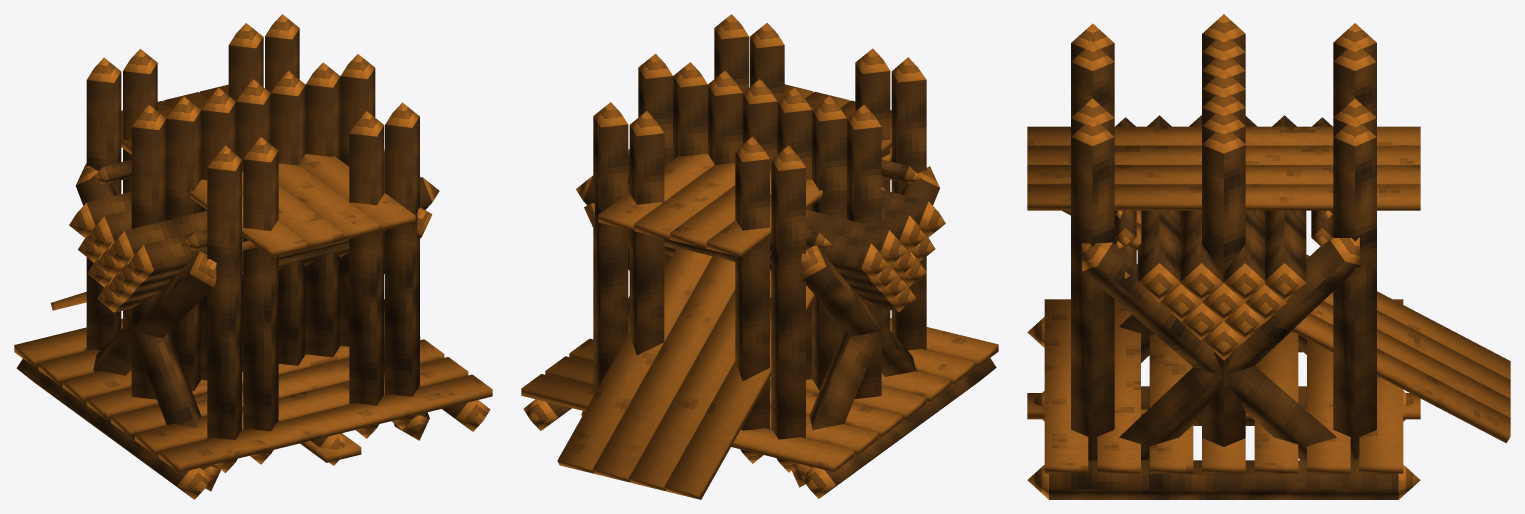
The model's file is WoodConstructs.fbx.
3 renders of one model, left to right at view 1: azimuth 30°, elevation 25°; view 2: azimuth 150°, elevation 25°; view 3: azimuth 270°, elevation 25°, orthographic. The views are drawn at different scales.
Visible parts, largest first — view 1: SM_Wood_Log_Catwalk, SM_Wood_Log_Palisade, SM_Wood_Platform, SM_Wood_Log_Catwalk_Narrow, SM_Wood_Log_Stand, SM_Wood_Log_Catwalk_Ramp_Narrow, SM_Wood_Log_Catwalk_Ramp, SM_Wood_Plank; view 2: SM_Wood_Log_Catwalk, SM_Wood_Log_Catwalk_Narrow, SM_Wood_Log_Palisade, SM_Wood_Log_Catwalk_Ramp, SM_Wood_Log_Stand, SM_Wood_Platform, SM_Wood_Log_Catwalk_Ramp_Narrow; view 3: SM_Wood_Log_Catwalk, SM_Wood_Log_Stand, SM_Wood_Platform, SM_Wood_Log_Catwalk_Narrow, SM_Wood_Log_Palisade, SM_Wood_Log_Catwalk_Ramp, SM_Wood_Log_Catwalk_Ramp_Narrow, SM_Wood_Plank, SM_Wood_Log.
Part boxes in pixels (left/top/right/bottom): SM_Wood_Log_Catwalk: left=86, top=14, right=419, bottom=473; SM_Wood_Log_Palisade: left=131, top=54, right=375, bottom=399; SM_Wood_Platform: left=14, top=318, right=492, bottom=499; SM_Wood_Log_Catwalk_Narrow: left=123, top=23, right=379, bottom=464; SM_Wood_Log_Stand: left=69, top=149, right=439, bottom=491; SM_Wood_Log_Catwalk_Ramp_Narrow: left=242, top=111, right=384, bottom=464; SM_Wood_Log_Catwalk_Ramp: left=50, top=212, right=384, bottom=310; SM_Wood_Plank: left=300, top=433, right=361, bottom=462; SM_Wood_Log_Catwalk: left=593, top=14, right=926, bottom=472; SM_Wood_Log_Catwalk_Narrow: left=629, top=23, right=890, bottom=463; SM_Wood_Log_Palisade: left=638, top=53, right=881, bottom=398; SM_Wood_Log_Catwalk_Ramp: left=557, top=147, right=891, bottom=499; SM_Wood_Log_Stand: left=576, top=149, right=945, bottom=487; SM_Wood_Platform: left=521, top=318, right=998, bottom=498; SM_Wood_Log_Catwalk_Ramp_Narrow: left=593, top=23, right=885, bottom=491; SM_Wood_Log_Catwalk: left=1027, top=23, right=1420, bottom=460; SM_Wood_Log_Stand: left=1081, top=115, right=1360, bottom=460; SM_Wood_Platform: left=1027, top=299, right=1420, bottom=499; SM_Wood_Log_Catwalk_Narrow: left=1027, top=42, right=1420, bottom=218; SM_Wood_Log_Palisade: left=1202, top=14, right=1245, bottom=446; SM_Wood_Log_Catwalk_Ramp: left=1062, top=145, right=1510, bottom=443; SM_Wood_Log_Catwalk_Ramp_Narrow: left=1063, top=42, right=1510, bottom=417; SM_Wood_Plank: left=1027, top=393, right=1420, bottom=419; SM_Wood_Log: left=1032, top=386, right=1415, bottom=425.
Size of the model in its own units: 553 by 450 by 468.
Materials: 2 (2 with a texture image).
